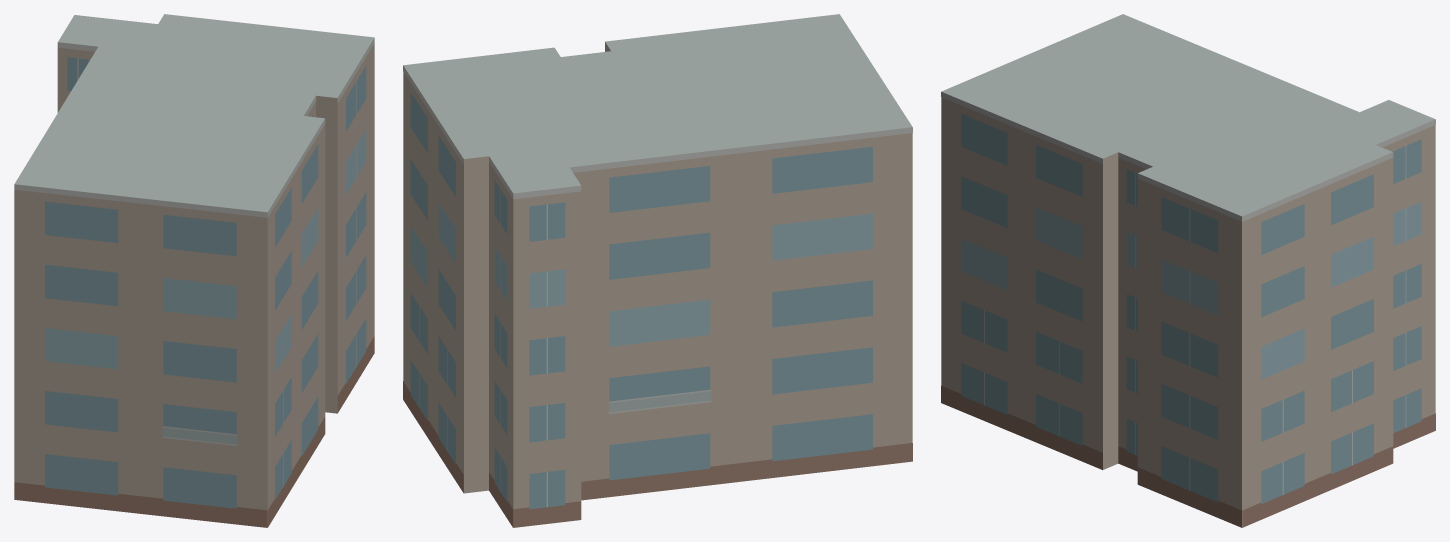
The model's file is survey-upis-32795875.glb.
The picture shows the model from 3 angles, left to right: view 1: azimuth 30°, elevation 25°; view 2: azimuth 150°, elevation 25°; view 3: azimuth 270°, elevation 25°; orthographic projection. The views are drawn at different scales.
Visible parts, largest first — view 1: survey-upis-32795875.tmp; view 2: survey-upis-32795875.tmp; view 3: survey-upis-32795875.tmp.
Boxes of the visible parts, left/top/right/bottom form: survey-upis-32795875.tmp: left=14, top=14, right=374, bottom=527; survey-upis-32795875.tmp: left=403, top=14, right=912, bottom=527; survey-upis-32795875.tmp: left=941, top=14, right=1435, bottom=527.
Bounding box in the file's own units: 19.68 × 14.1 × 20.31.
